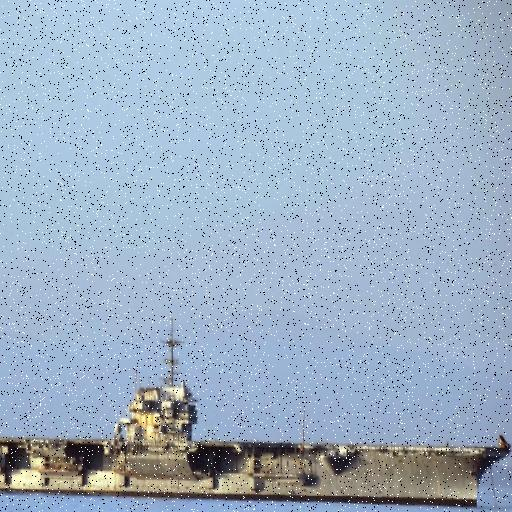Portanaves: (1, 318, 512, 506)
